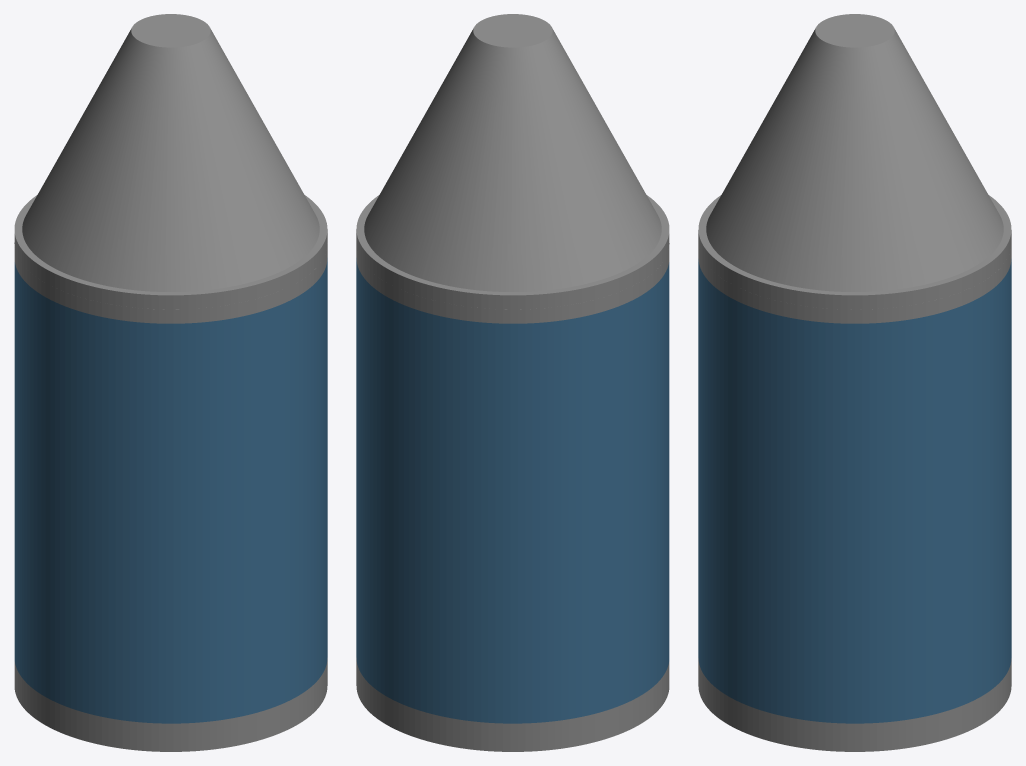
The model's file is spraylike.fbx.
3 renders of one model, left to right at view 1: azimuth 30°, elevation 25°; view 2: azimuth 150°, elevation 25°; view 3: azimuth 270°, elevation 25°, orthographic.
Parts seen in each view (by area): view 1: 개체_2, 개체_1, 개체_3, 개체_4; view 2: 개체_2, 개체_1, 개체_3, 개체_4; view 3: 개체_2, 개체_1, 개체_3, 개체_4.
Boxes of the visible parts, left/top/right/bottom form: 개체_2: left=14, top=258, right=327, bottom=723; 개체_1: left=14, top=14, right=319, bottom=309; 개체_3: left=14, top=195, right=327, bottom=323; 개체_4: left=14, top=658, right=327, bottom=751; 개체_2: left=356, top=258, right=669, bottom=723; 개체_1: left=364, top=14, right=669, bottom=309; 개체_3: left=356, top=195, right=669, bottom=323; 개체_4: left=356, top=658, right=669, bottom=751; 개체_2: left=698, top=259, right=1011, bottom=723; 개체_1: left=706, top=14, right=1003, bottom=309; 개체_3: left=698, top=195, right=1011, bottom=323; 개체_4: left=698, top=658, right=1011, bottom=751.
Bounding box in the file's own units: 10 × 10 × 23.09.
